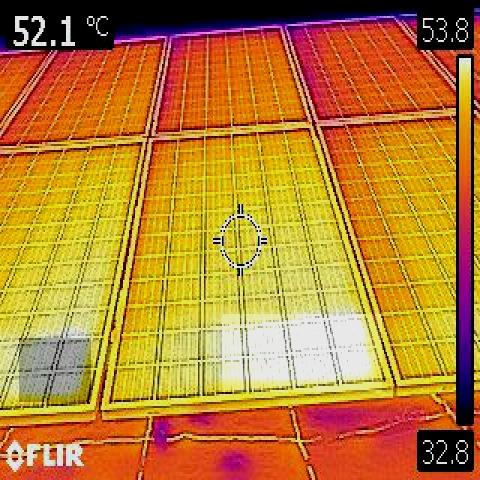fault: (222, 314, 382, 392), (20, 338, 92, 402)
